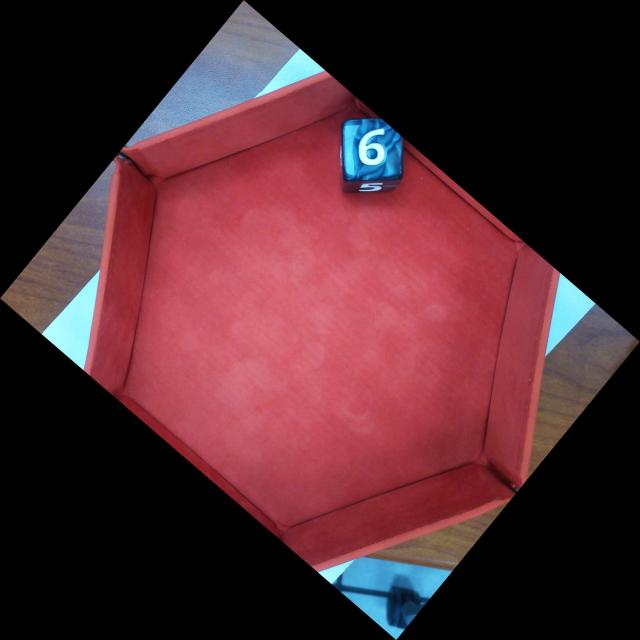dice: (343, 120, 404, 181)
